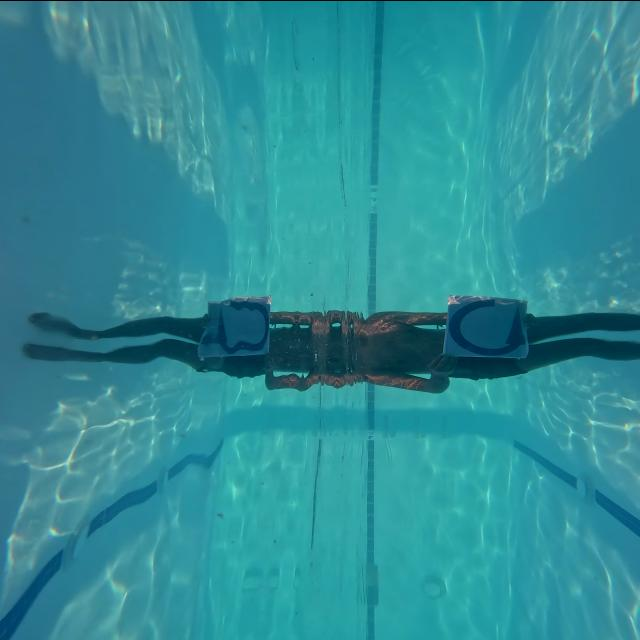blue_side: (443, 296, 532, 358)
